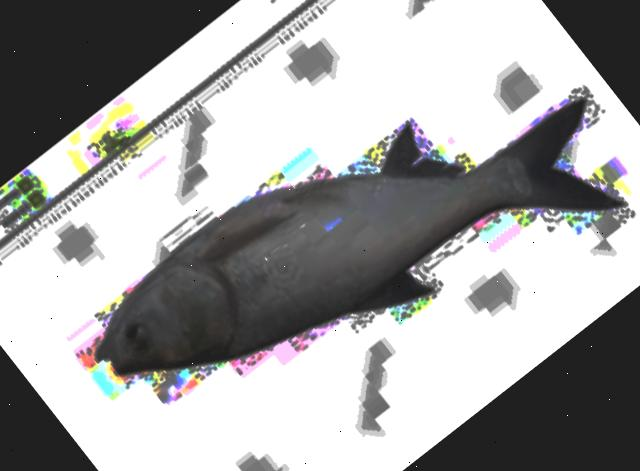Healthy Fish: (99, 102, 620, 373)
